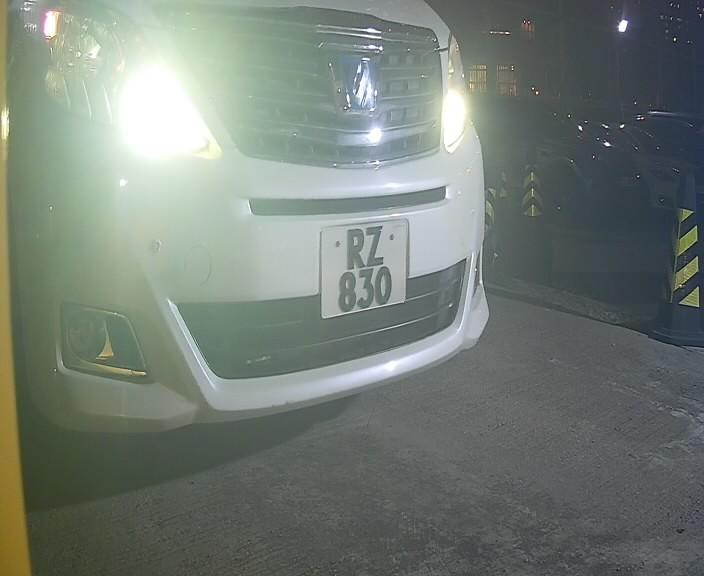privatecar: (16, 1, 513, 471)
